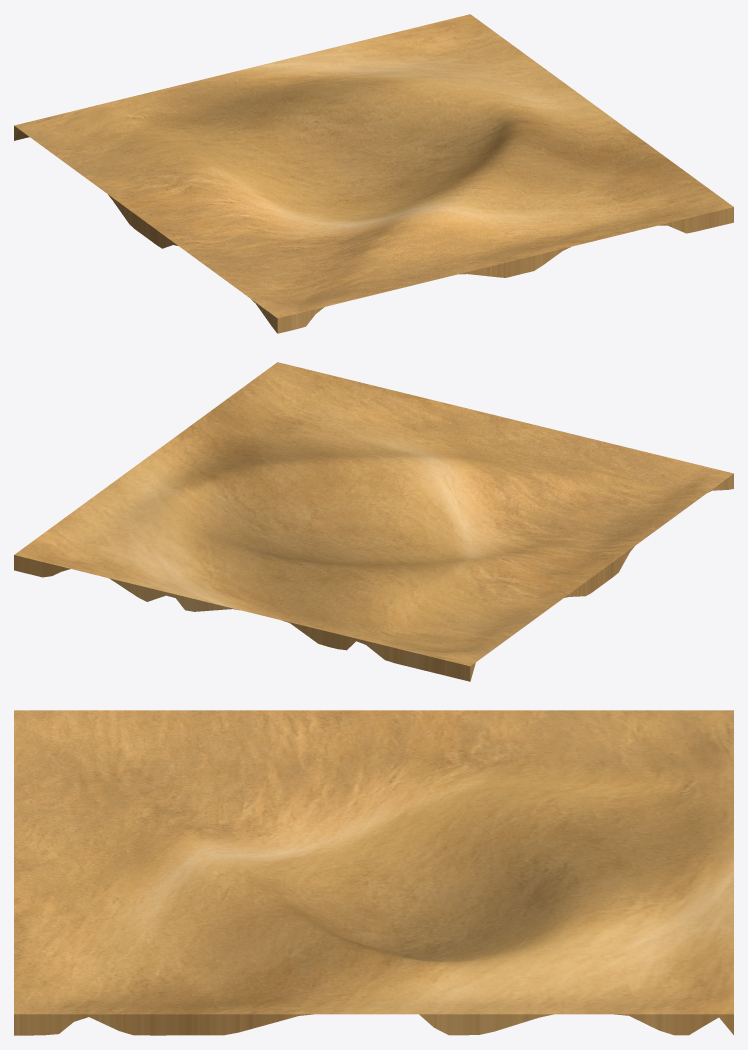
3 views of the same model, one above another, from view 1: azimuth 30°, elevation 25°; view 2: azimuth 150°, elevation 25°; view 3: azimuth 270°, elevation 25° (orthographic). The views are drawn at different scales.
Visible parts, largest first — view 1: desert-ground; view 2: desert-ground; view 3: desert-ground.
Boxes of the visible parts, bbox=[...] form: desert-ground: bbox=[14, 14, 733, 333]; desert-ground: bbox=[14, 362, 733, 681]; desert-ground: bbox=[14, 710, 733, 1035].
Size of the model in its own units: 32 by 2.31 by 32.
1 material, 1 textured.
